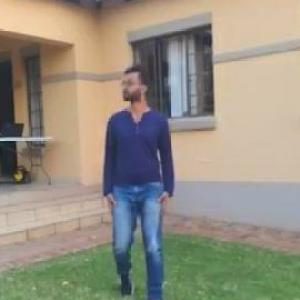follow: (98, 60, 172, 299)
